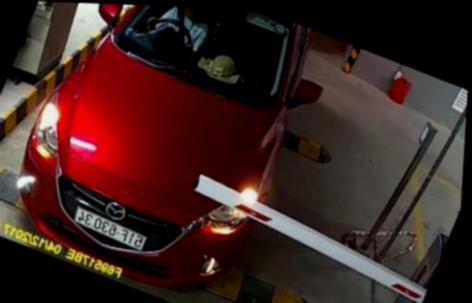License_Plate: (59, 198, 160, 250)
